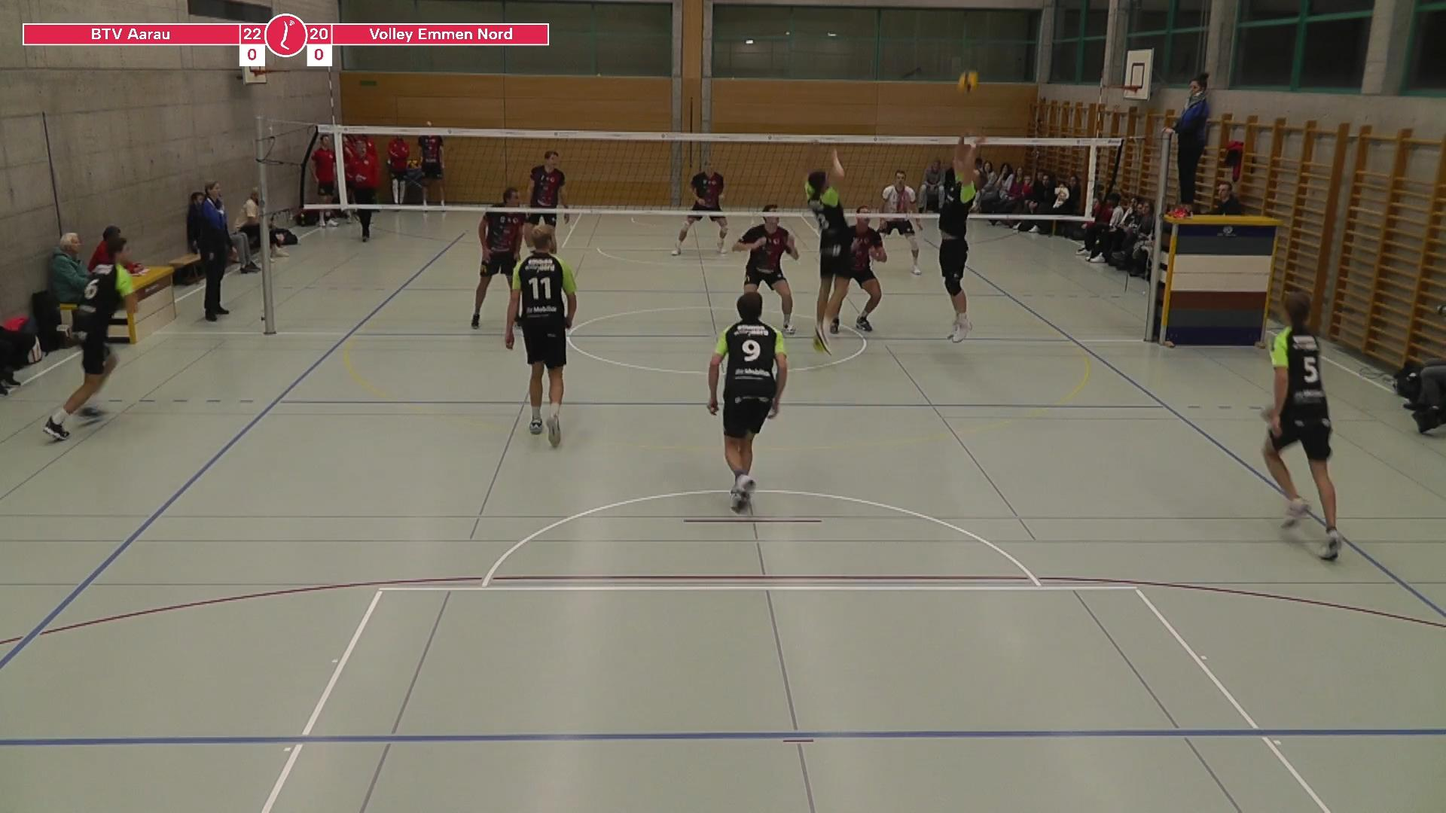alzata: (931, 129, 995, 350)
